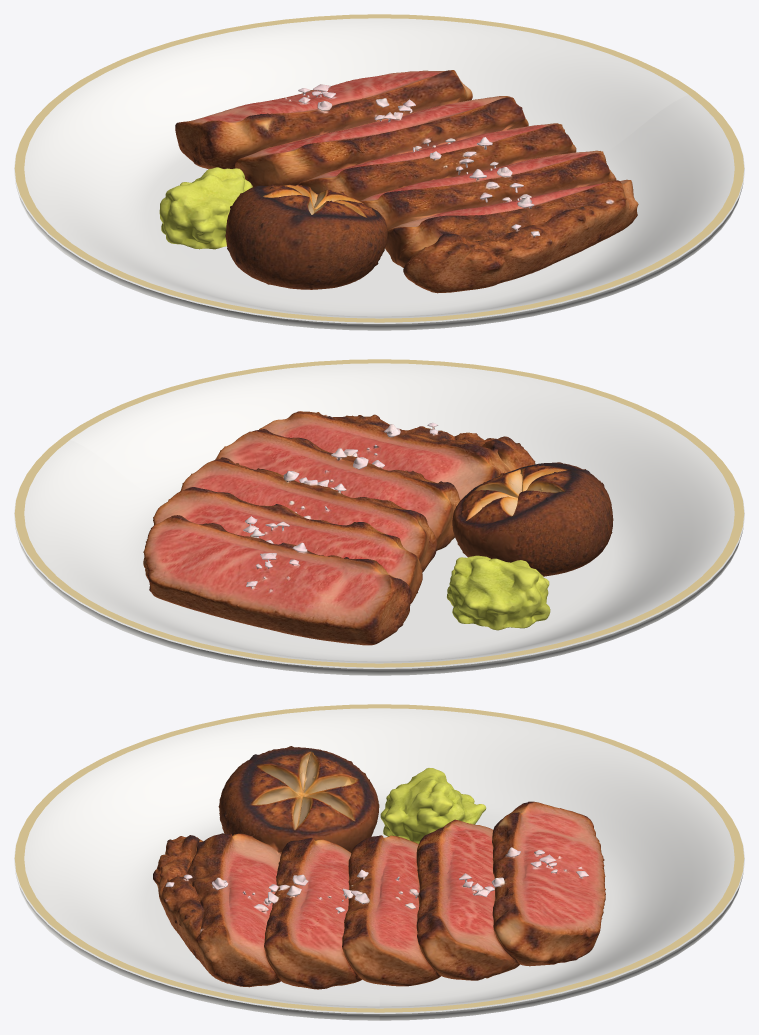
Rendered from wagyu-a5.glb.
3 renders of one model, top to bottom at view 1: azimuth 30°, elevation 25°; view 2: azimuth 150°, elevation 25°; view 3: azimuth 270°, elevation 25°, orthographic.
Visible parts, largest first — view 1: dish, tripo_node_3a1ef5d2-25b7-48d7-b00e-4edd35edd81b; view 2: dish, tripo_node_3a1ef5d2-25b7-48d7-b00e-4edd35edd81b; view 3: dish, tripo_node_3a1ef5d2-25b7-48d7-b00e-4edd35edd81b.
Part boxes in pixels (x1,y1,x2,y2): dish: [14, 14, 744, 330]; tripo_node_3a1ef5d2-25b7-48d7-b00e-4edd35edd81b: [159, 70, 638, 293]; dish: [14, 359, 744, 675]; tripo_node_3a1ef5d2-25b7-48d7-b00e-4edd35edd81b: [143, 411, 613, 645]; dish: [14, 704, 744, 1020]; tripo_node_3a1ef5d2-25b7-48d7-b00e-4edd35edd81b: [153, 746, 605, 989].
Size of the model in its own units: 0.27 by 0.04 by 0.27.
Materials: 4 (1 with a texture image).
